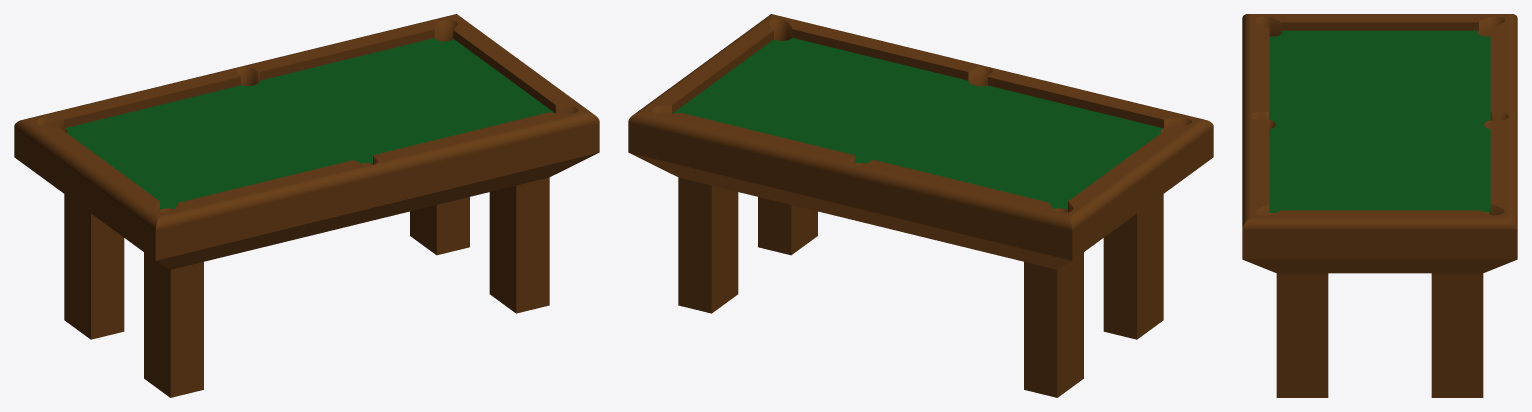
The model's file is Pooltable.fbx.
The picture shows the model from 3 angles, left to right: view 1: azimuth 30°, elevation 25°; view 2: azimuth 150°, elevation 25°; view 3: azimuth 270°, elevation 25°; orthographic projection. The views are drawn at different scales.
Visible parts, largest first — view 1: Table; view 2: Table; view 3: Table.
Boxes of the visible parts, box(x1,y1,x2,y2) form: Table: box(14, 14, 599, 397); Table: box(628, 14, 1213, 397); Table: box(1242, 14, 1517, 397).
Bounding box in the file's own units: 286 × 121 × 158.
